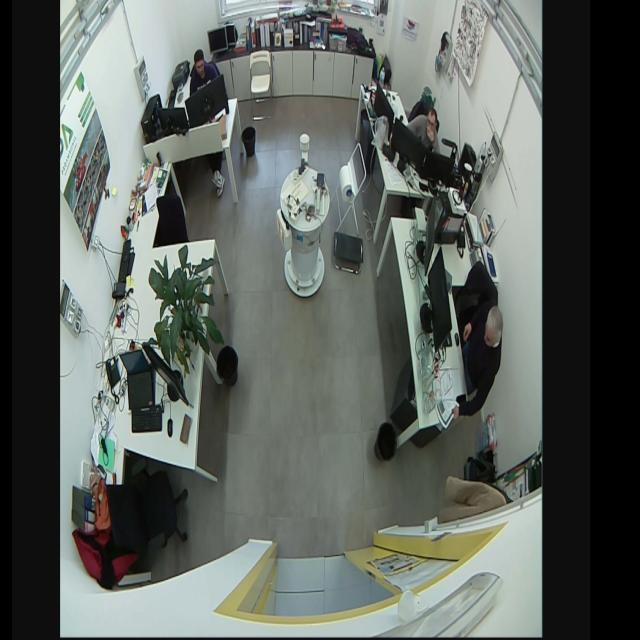Persona: (451, 304, 507, 421), (183, 40, 222, 99), (405, 100, 441, 156)
